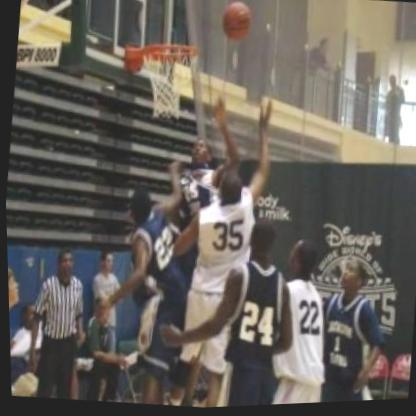basketball: (214, 0, 259, 49)
